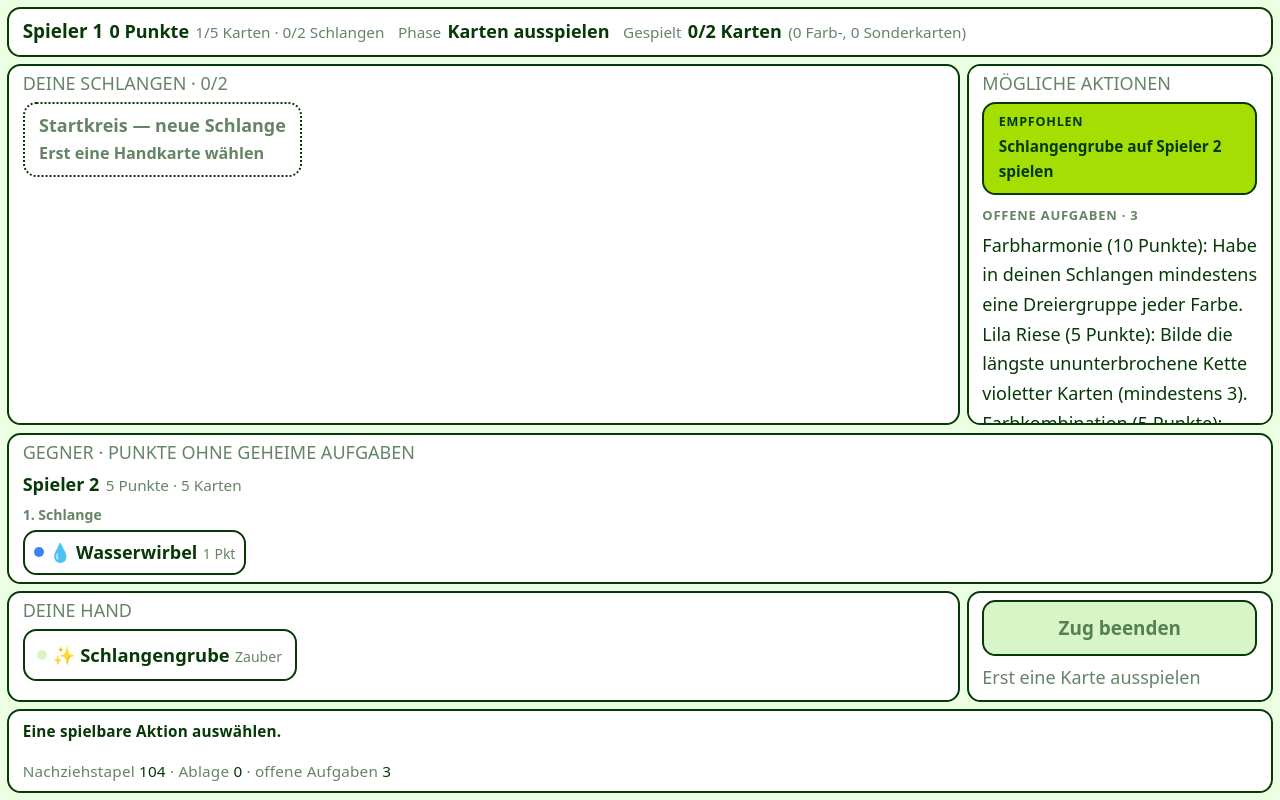
Test: Sonderkarten über Brettziele › spielt die Schlangengrube durch Klick auf den Gegner
The width and height of the screenshot is (1280, 800).
Click the button "✨ Schlangengrube Zauber" at [160, 655], box [23,629,296,681]
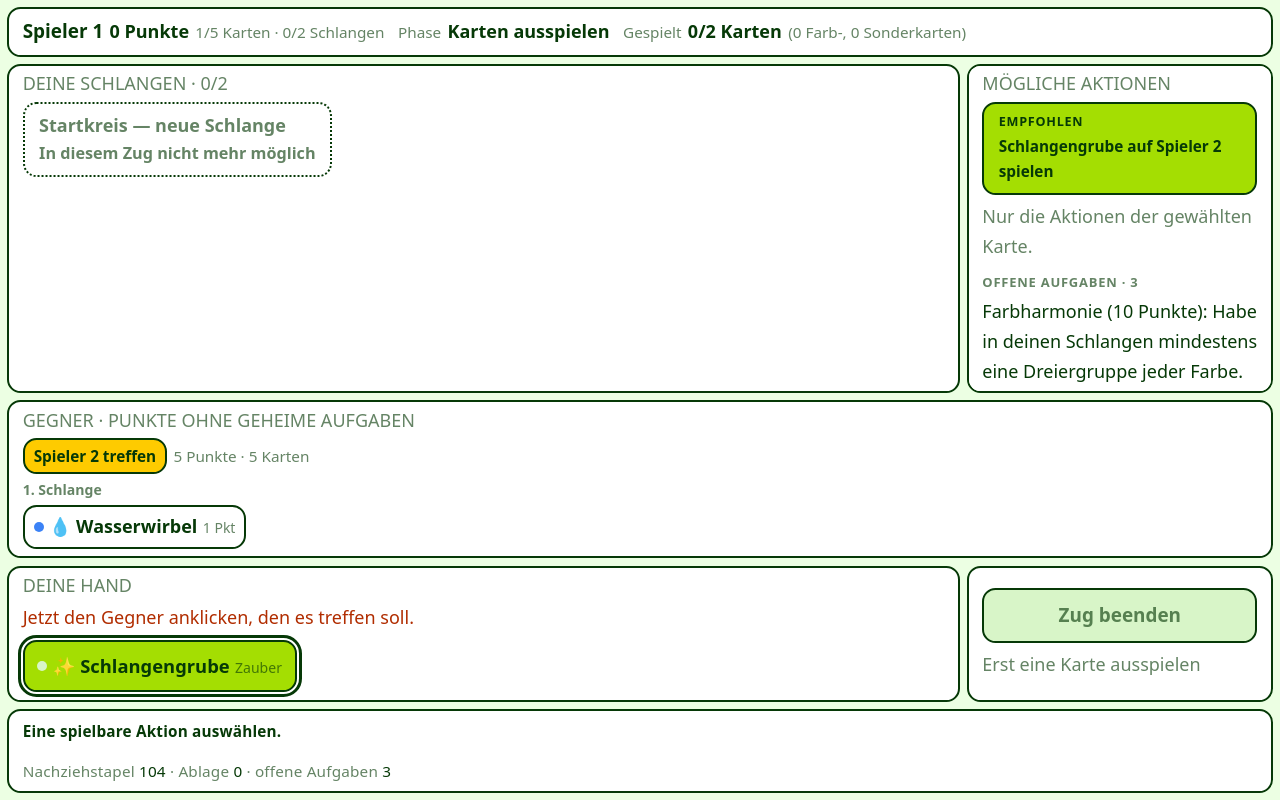
Click the button "Spieler 2 treffen" at [95, 456], box [23,438,167,474]
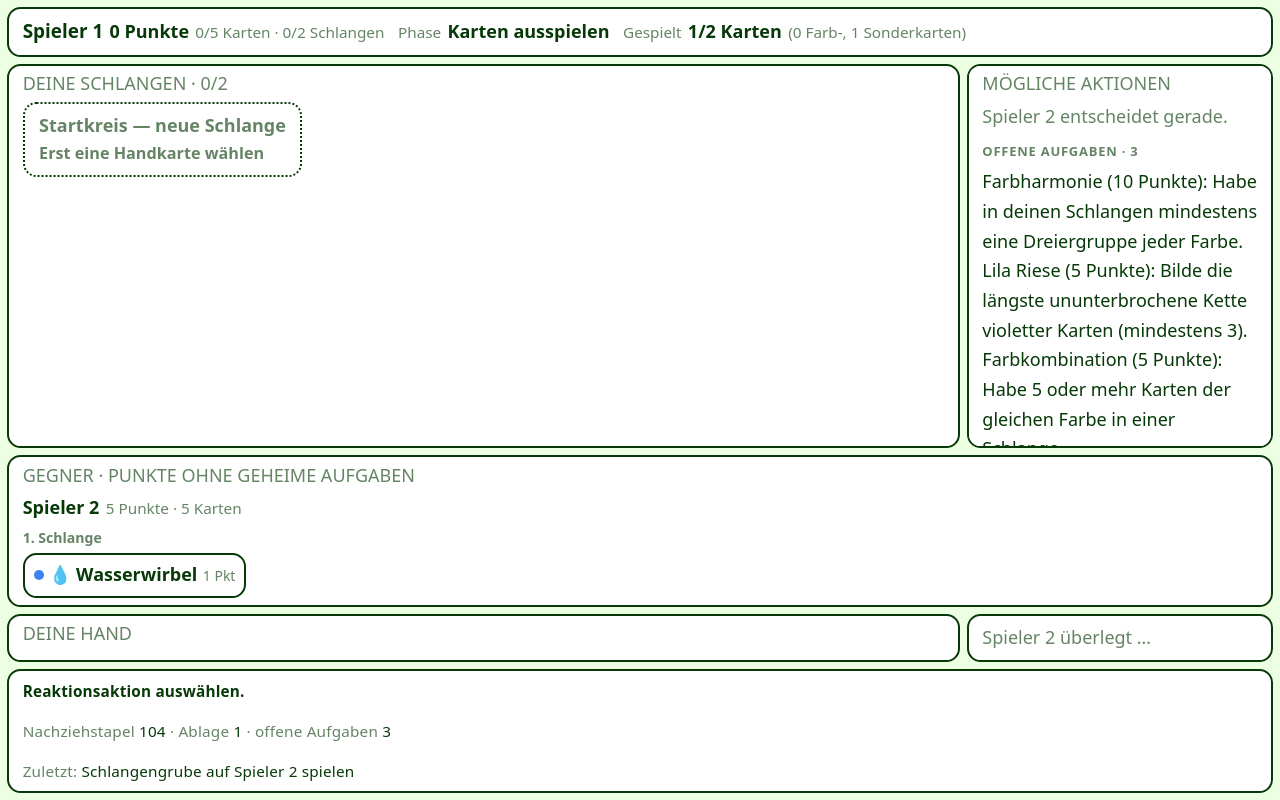
Expected: the element named "Zugaktion" is shown, [967,614,1273,662]
Now the element named "Spielverlauf" shows "Schlangengrube", box [81,760,354,780]
